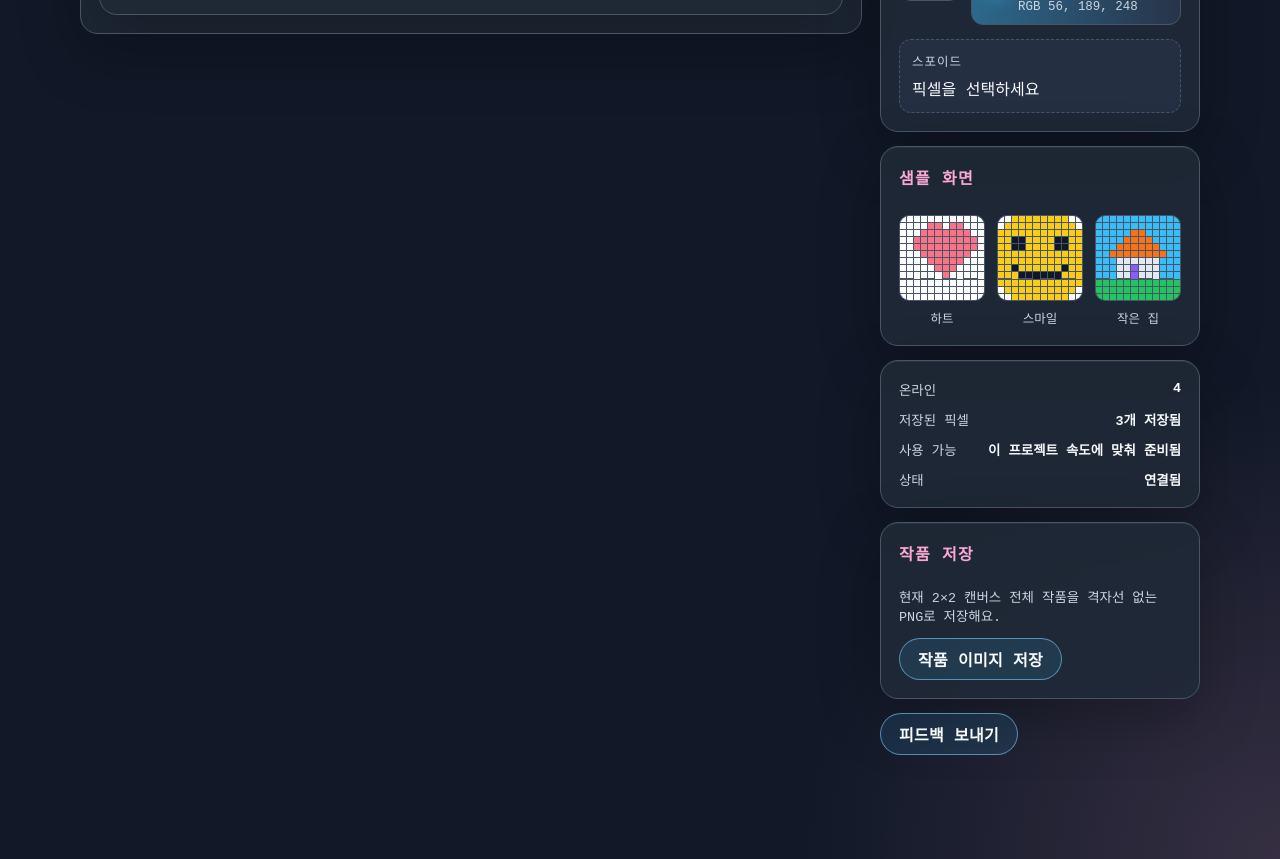
Test: RoomCanvasShell › downloads the whole canvas artwork as an image
(page scrolled)
Check: the text "현재 2×2 캔버스 전체 작품을 격자선 없는 PNG로 저장해요." is shown, box [899,589,1181,628]
Click the button "작품 이미지 저장" at (981, 659), box [899,638,1062,680]
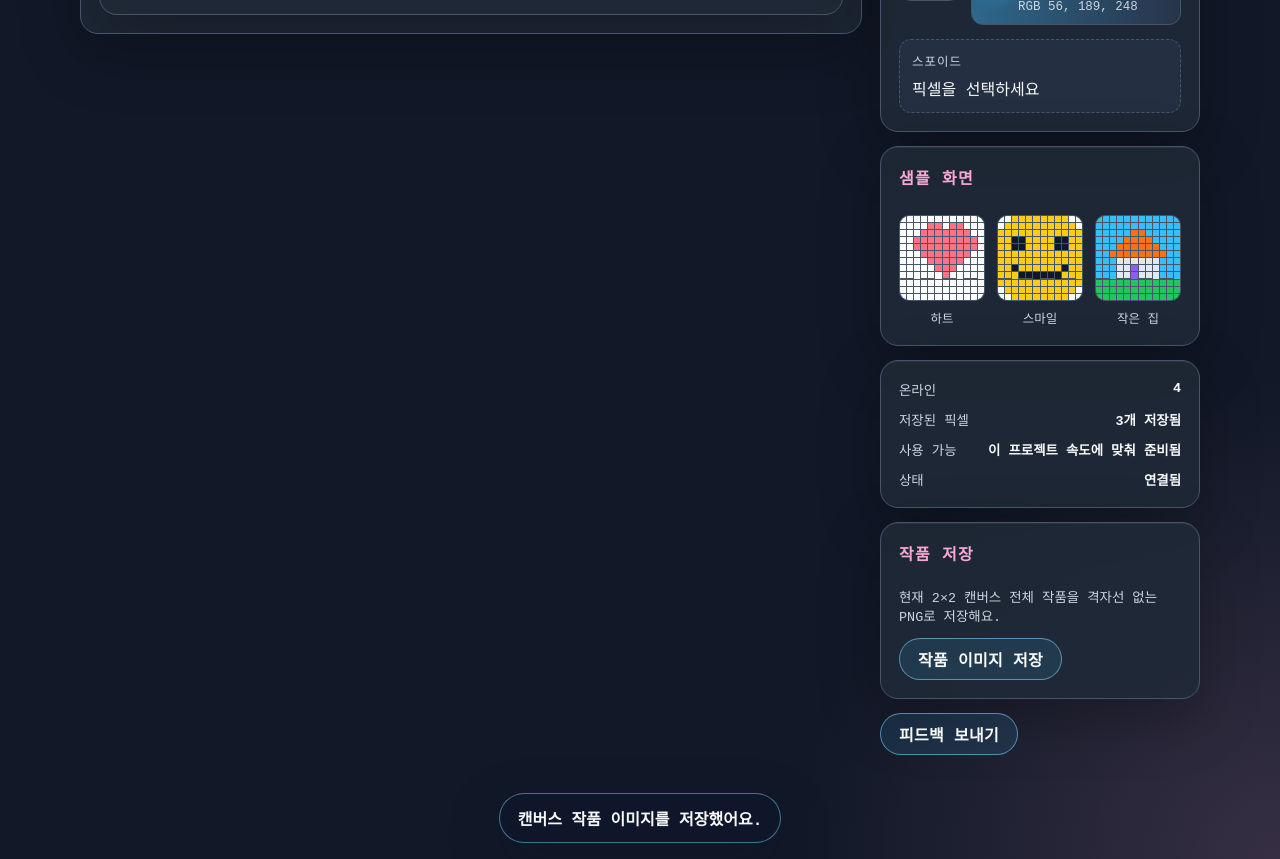
Check: the text "캔버스 작품 이미지를 저장했어요." is shown, box [499,793,781,843]
